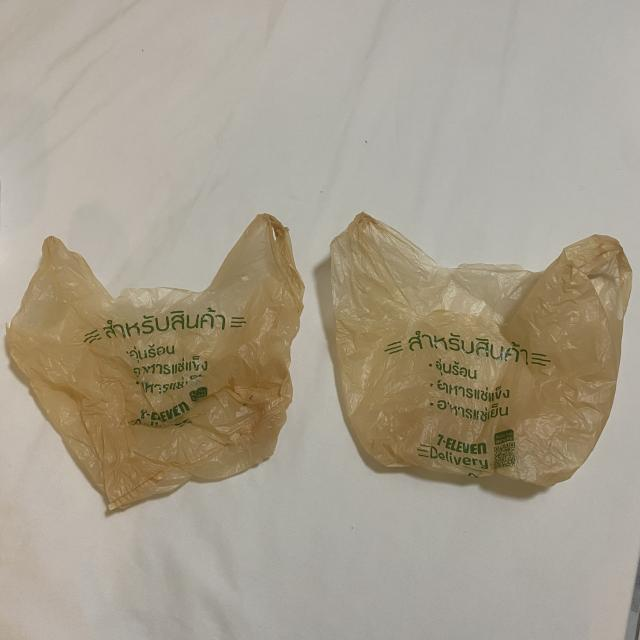Single-layer Plastic: (6, 214, 304, 510), (331, 214, 632, 486)
